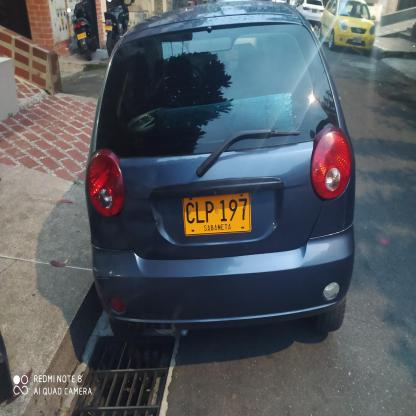placa: (177, 191, 254, 237)
